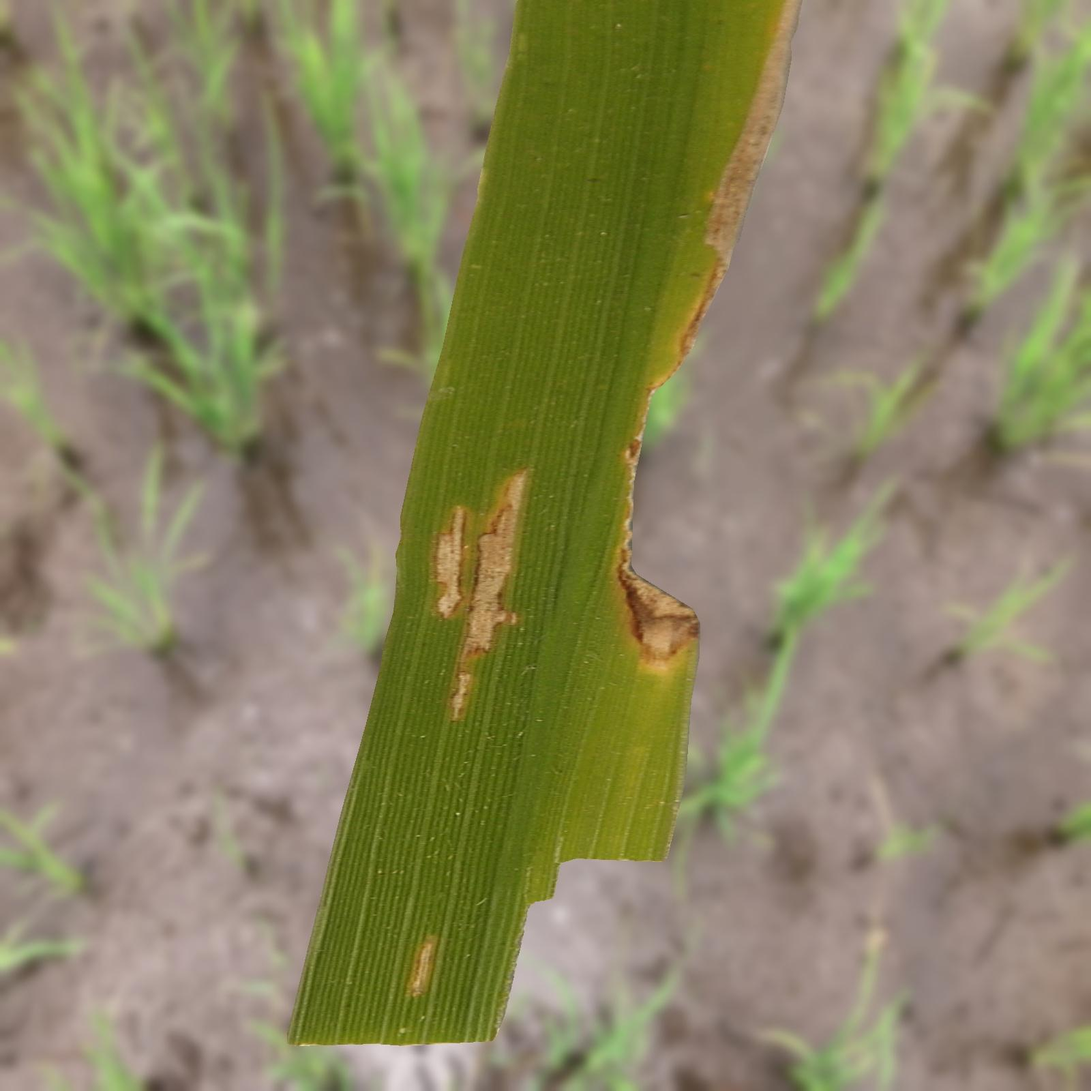BLS: (428, 460, 538, 725)
LEAF: (287, 0, 802, 1045)
